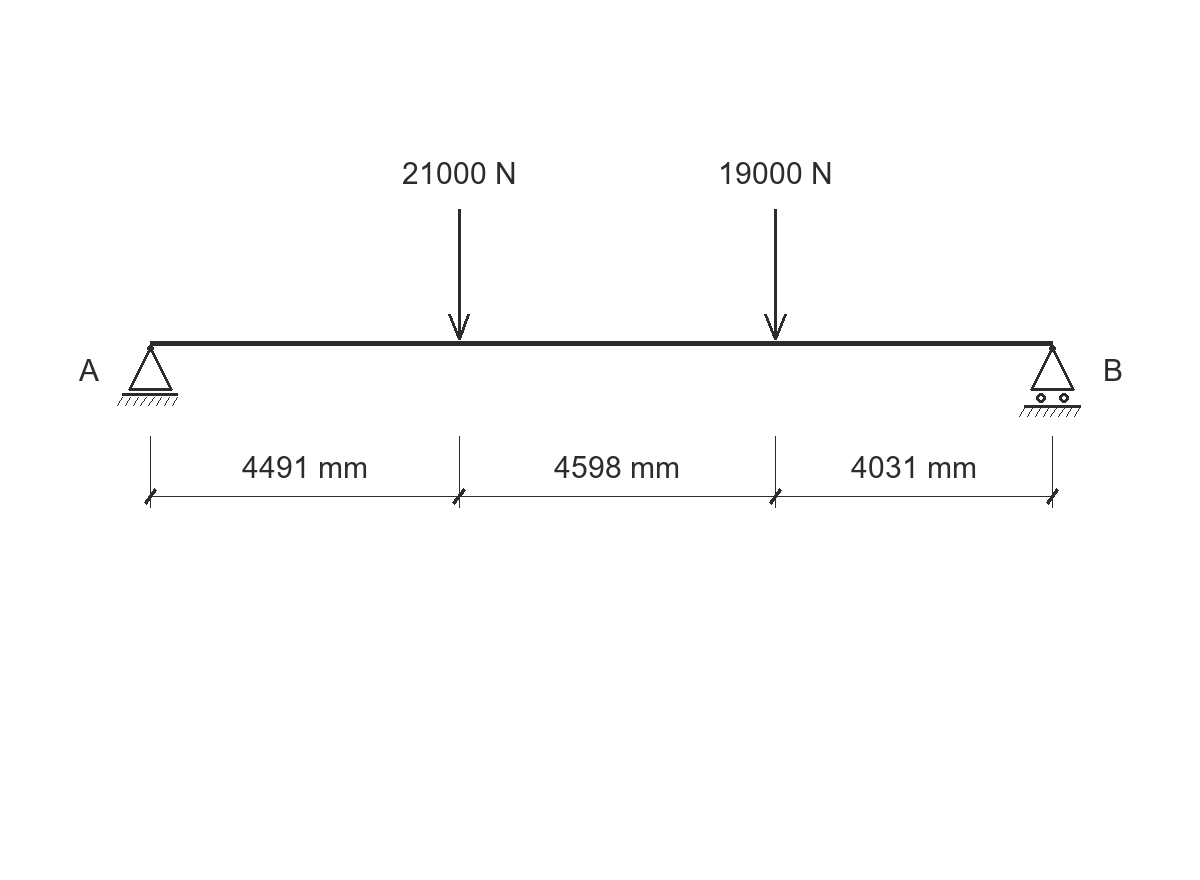pin_support: (117, 345, 178, 406)
point_load: (764, 209, 787, 340), (448, 209, 470, 340)
roller_support: (1019, 345, 1081, 417)
